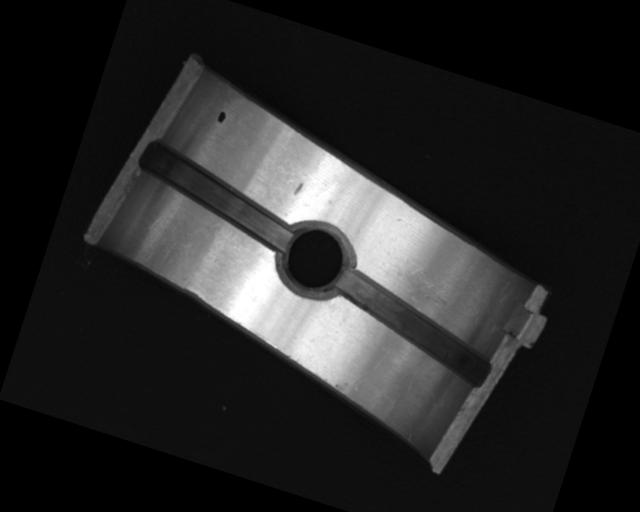blot: (214, 109, 228, 126)
bruise: (292, 179, 303, 196)
gap: (321, 265, 507, 386), (127, 137, 306, 253)
hole: (268, 210, 364, 305)
scratch: (381, 255, 468, 315)
